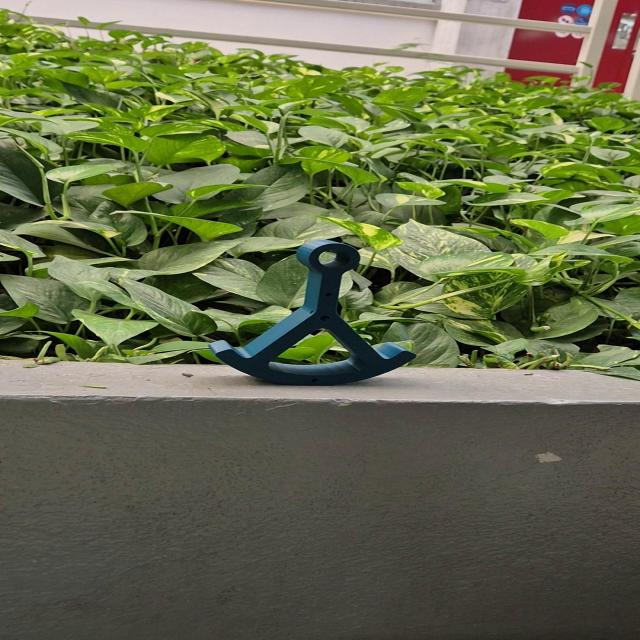haptic: (207, 238, 418, 388)
